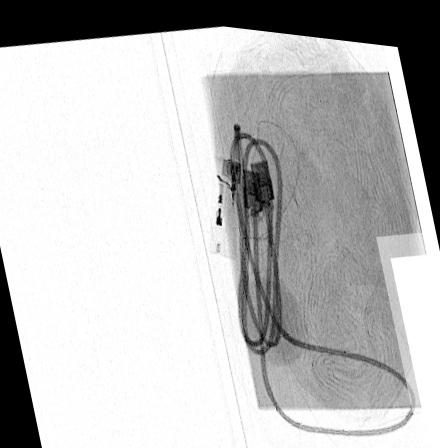Lighter: (209, 149, 242, 251)
